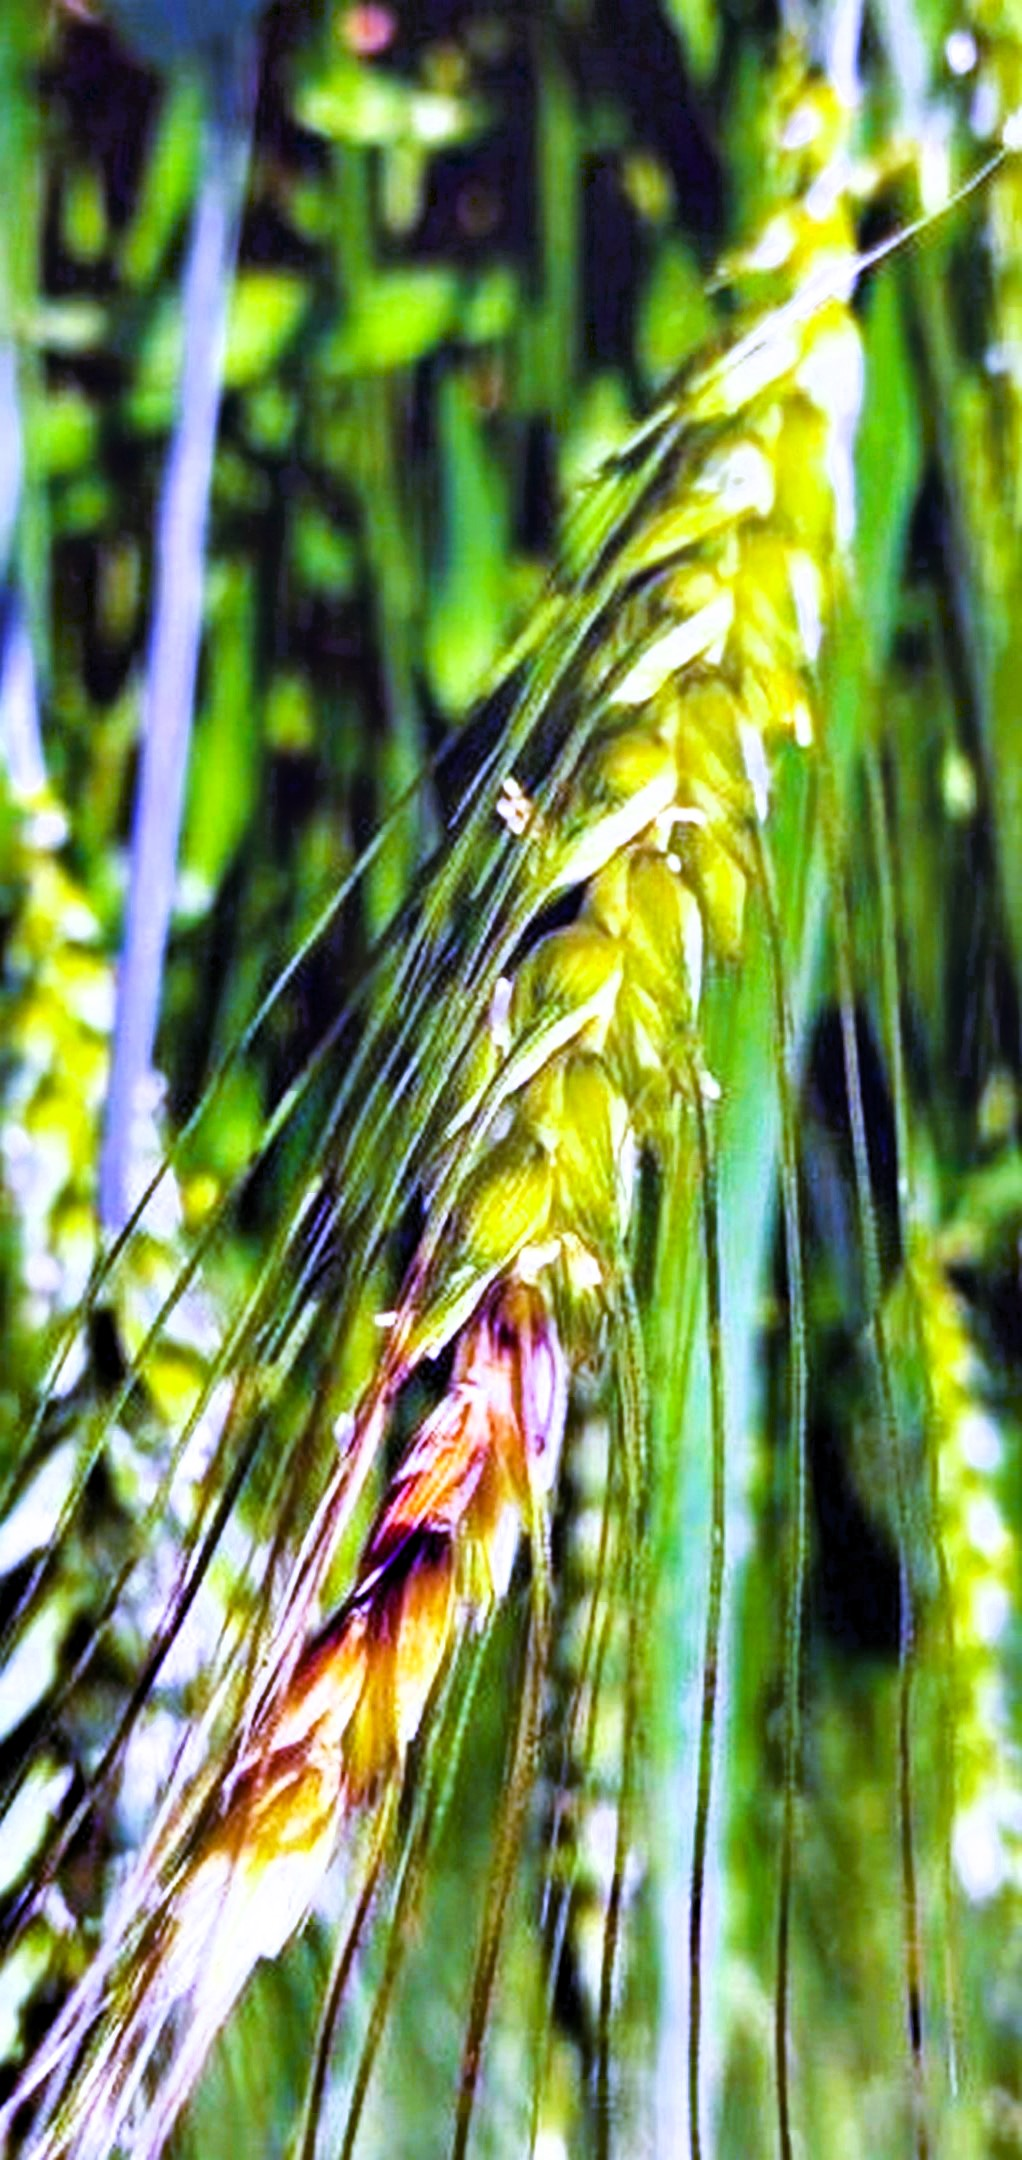Wheat scab: (236, 375, 848, 1891)
